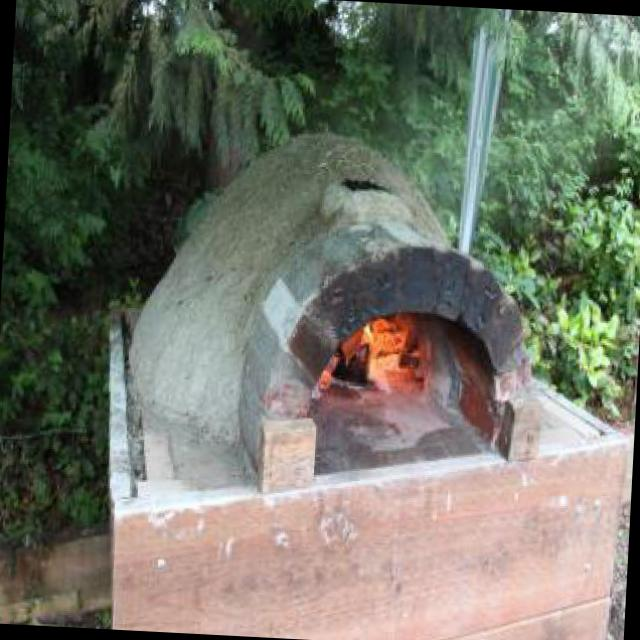fire: (346, 297, 396, 402)
